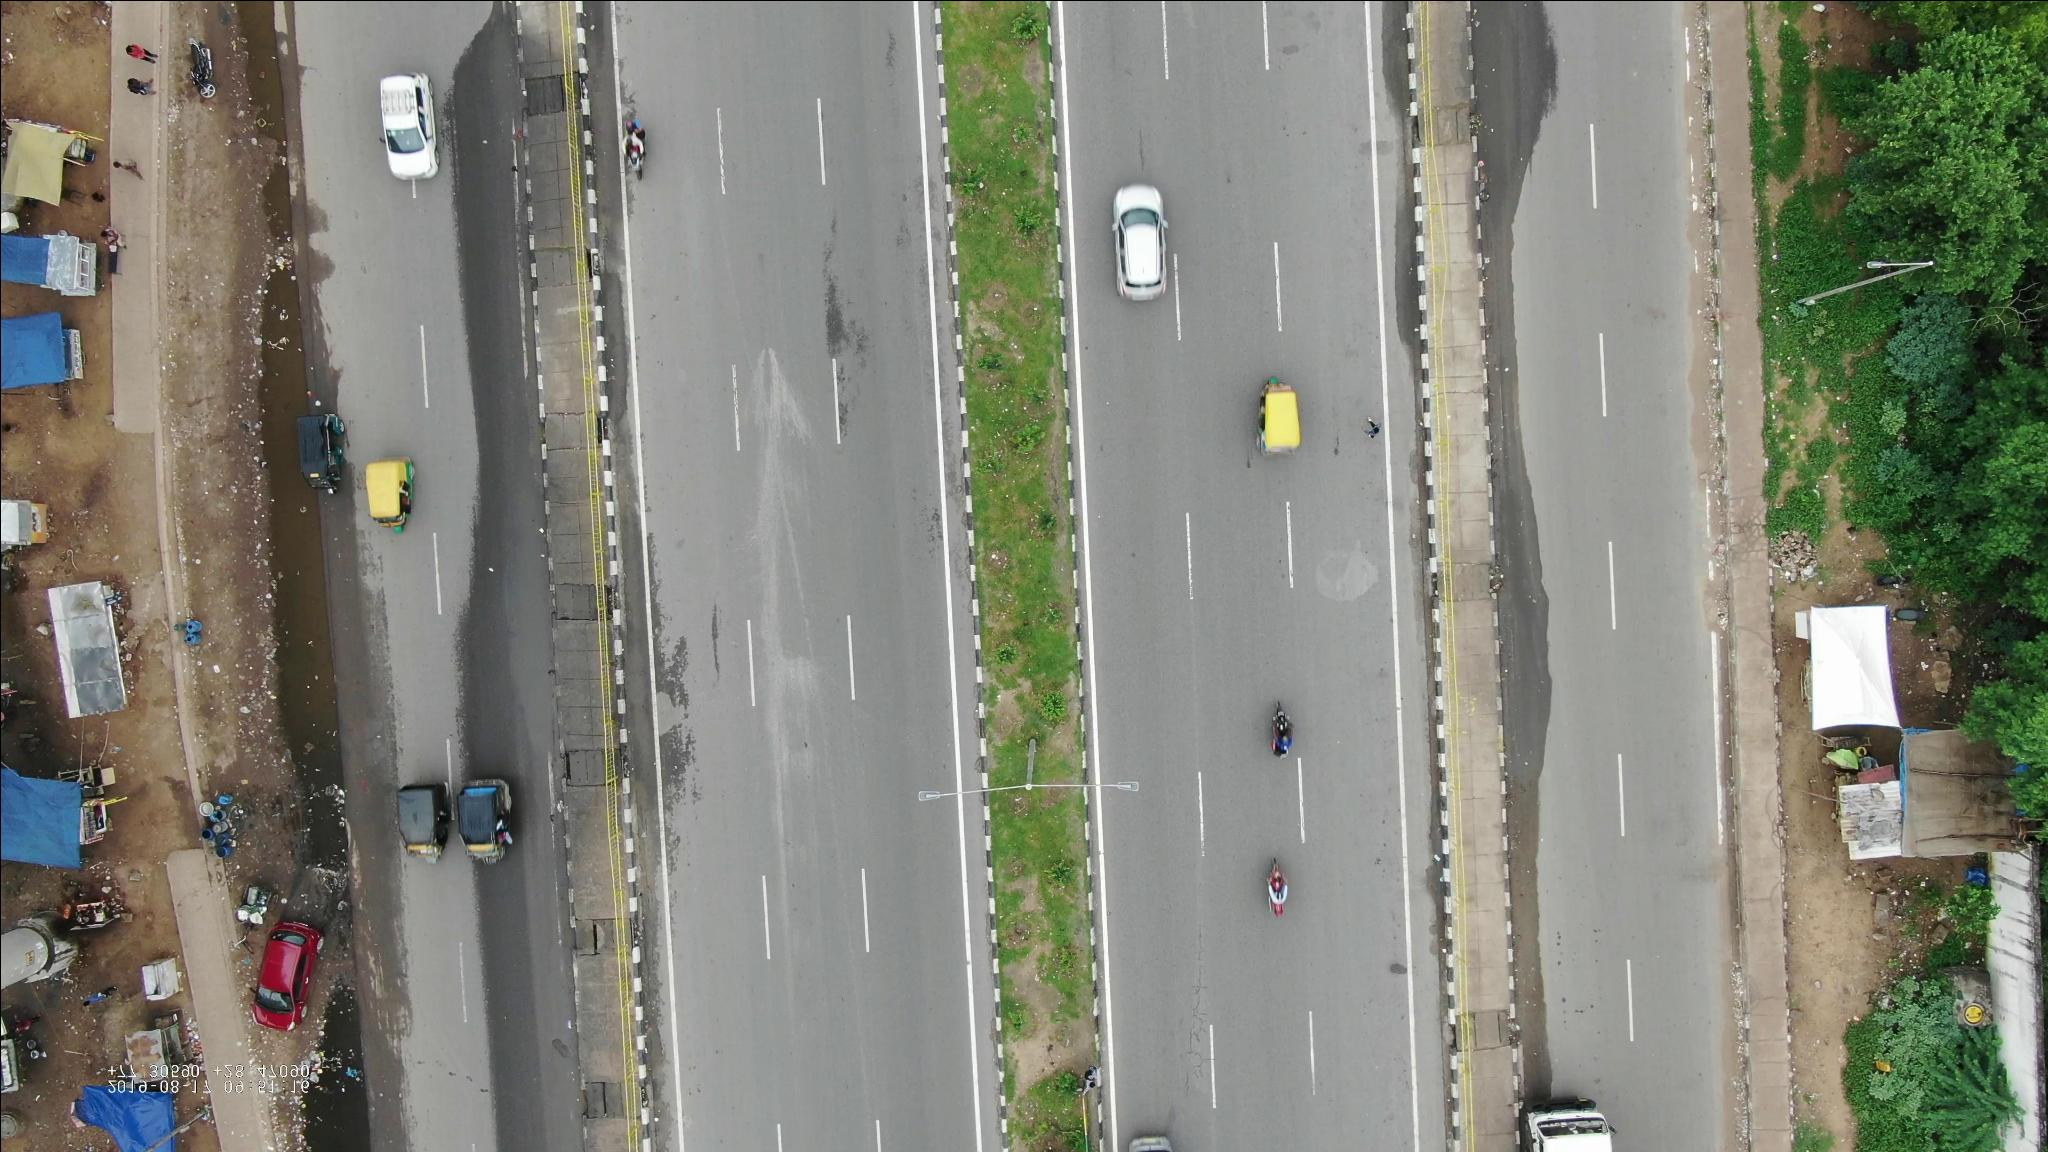Cracks: (1170, 919, 1222, 1092), (643, 720, 705, 810), (639, 605, 693, 696)
Waterlogging: (225, 203, 324, 399), (256, 512, 350, 672), (269, 684, 353, 852), (233, 1, 297, 194), (288, 1024, 378, 1152)
